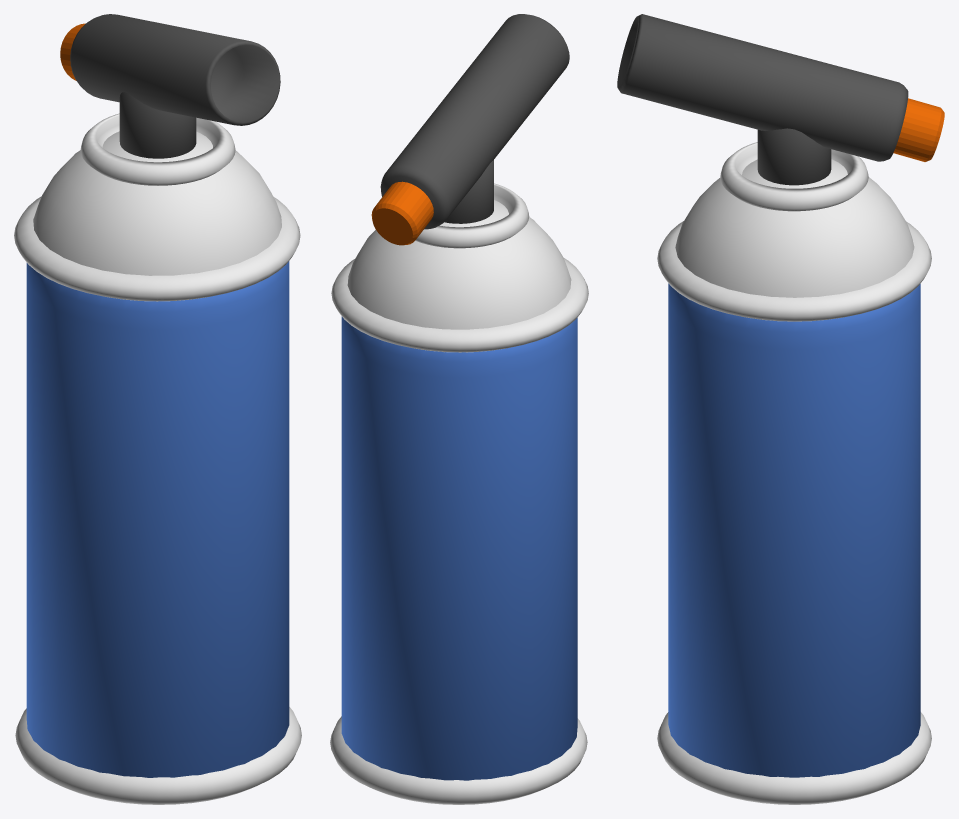
Rendered from GASLIGHTER color 2.fbx.
The picture shows the model from 3 angles, left to right: view 1: azimuth 30°, elevation 25°; view 2: azimuth 150°, elevation 25°; view 3: azimuth 270°, elevation 25°; orthographic projection. The views are drawn at different scales.
Visible parts, largest first — view 1: Цилиндр; view 2: Цилиндр; view 3: Цилиндр.
Boxes of the visible parts, box(x1,y1,x2,y2) form: Цилиндр: box(14, 14, 301, 804); Цилиндр: box(330, 14, 588, 804); Цилиндр: box(617, 14, 944, 804).
Size of the model in its own units: 219 by 645 by 260.
